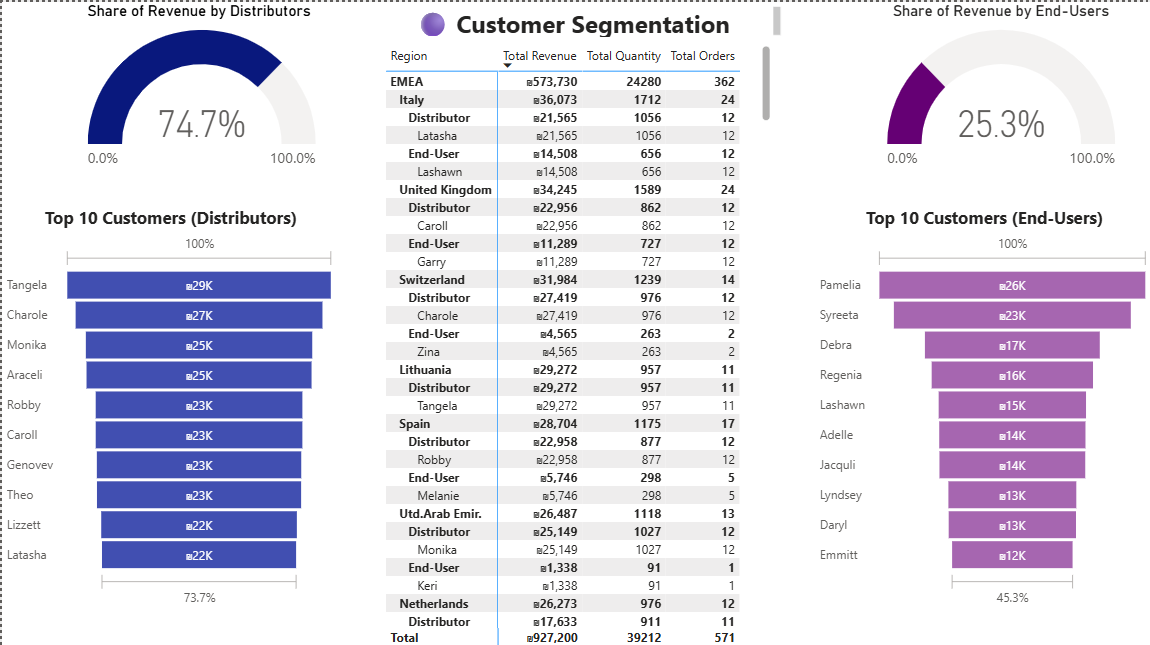

What the dashboard file says about the page in this screenshot:
{"tool":"powerbi","page":{"name":"🟣 Customer Segmentation","canvas":[1280,720],"ordinal":2},"visuals":[{"type":"pivotTable","fields":{"Rows":["Customers.Region Hierarchy.Region","Customers.Region Hierarchy.Country","Customers.Region Hierarchy.Type","Customers.Region Hierarchy.Customer Name"],"Values":["M.Total Revenue","M.Total Quantity","M.Total Orders"]},"box":[421.7,43.3,436.7,676.7],"z":1},{"type":"funnel","title":"Top 10 Customers (Distributors)","fields":{"Y":["M.Total Revenue"],"Category":["Customers.Customer Name","Customers.Type"]},"box":[0,226.7,375,450],"z":2},{"type":"funnel","title":"Top 10 Customers (End-Users)","fields":{"Y":["M.Total Revenue"],"Category":["Customers.Customer Name","Customers.Type"]},"box":[903.3,226.7,376.7,450],"z":3},{"type":"gauge","title":"Share of Revenue by Distributors","fields":{"Y":["M.Distributor Revenue %"]},"box":[90,0,263.3,200],"z":4},{"type":"gauge","title":"Share of Revenue by End-Users","fields":{"Y":["M.End-User Revenue %"]},"box":[978.3,0,263.3,200],"z":5},{"type":"textbox","box":[408.3,0,461.7,43.3],"z":6}]}

Visuals, with their boxes in screenshot pixels (x1, y1, x2, y2), scaled from the page's 1280x720 canvas onto the 1150x645 screenshot:
pivotTable - Customers.Region Hierarchy.Region x Customers.Region Hierarchy.Country: pyautogui.locateOnScreen(379, 39, 771, 644)
"Top 10 Customers (Distributors)" funnel: pyautogui.locateOnScreen(0, 203, 337, 606)
"Top 10 Customers (End-Users)" funnel: pyautogui.locateOnScreen(812, 203, 1149, 606)
"Share of Revenue by Distributors" gauge: pyautogui.locateOnScreen(81, 0, 317, 179)
"Share of Revenue by End-Users" gauge: pyautogui.locateOnScreen(879, 0, 1116, 179)
textbox: pyautogui.locateOnScreen(367, 0, 782, 39)
